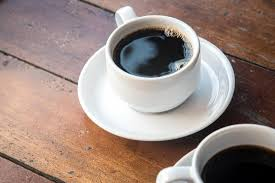cup: (104, 4, 209, 114)
